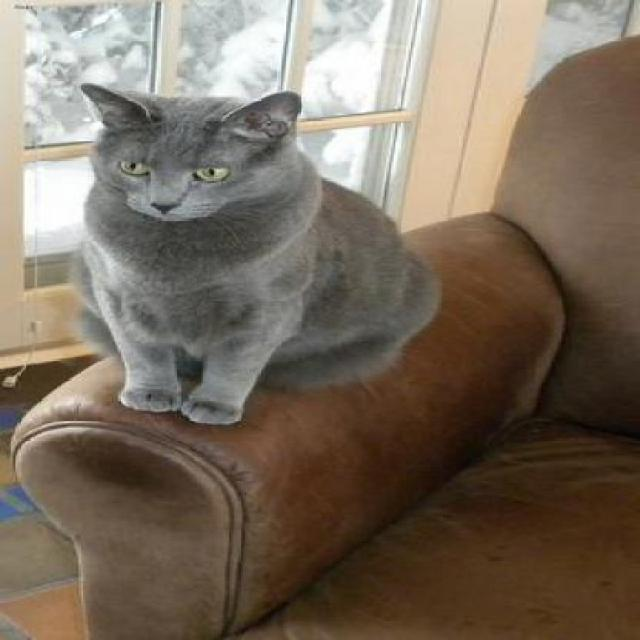cat: (69, 80, 437, 426)
